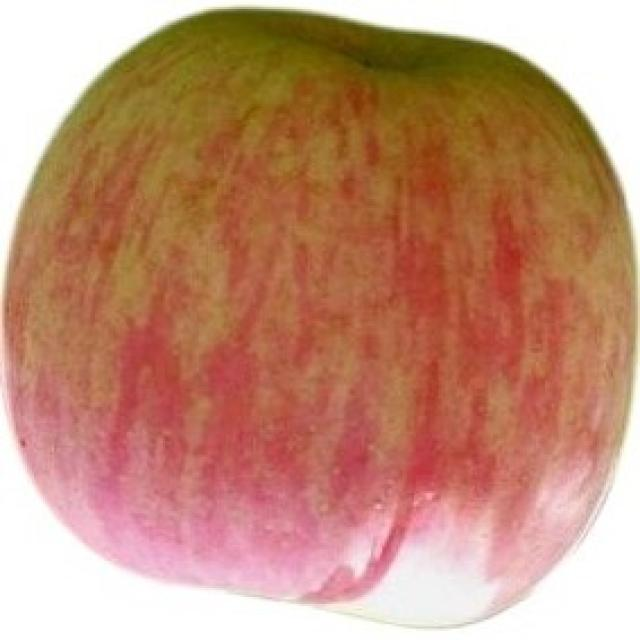75-_ripeness: (3, 8, 640, 631)
